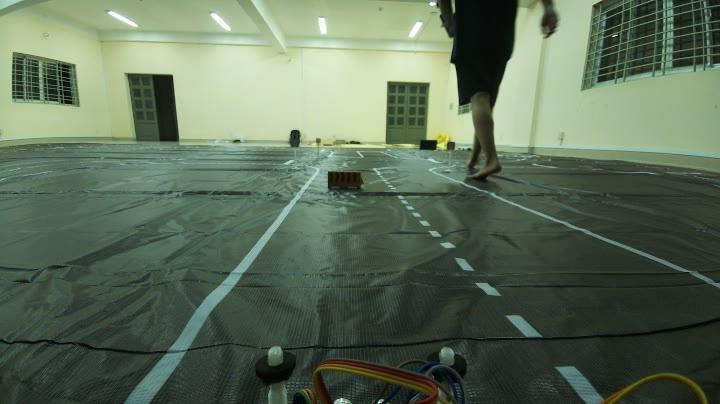roadblock: (325, 166, 367, 193)
